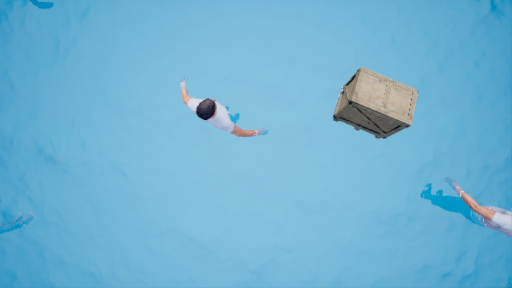person: (425, 180, 510, 249), (179, 80, 262, 148)
